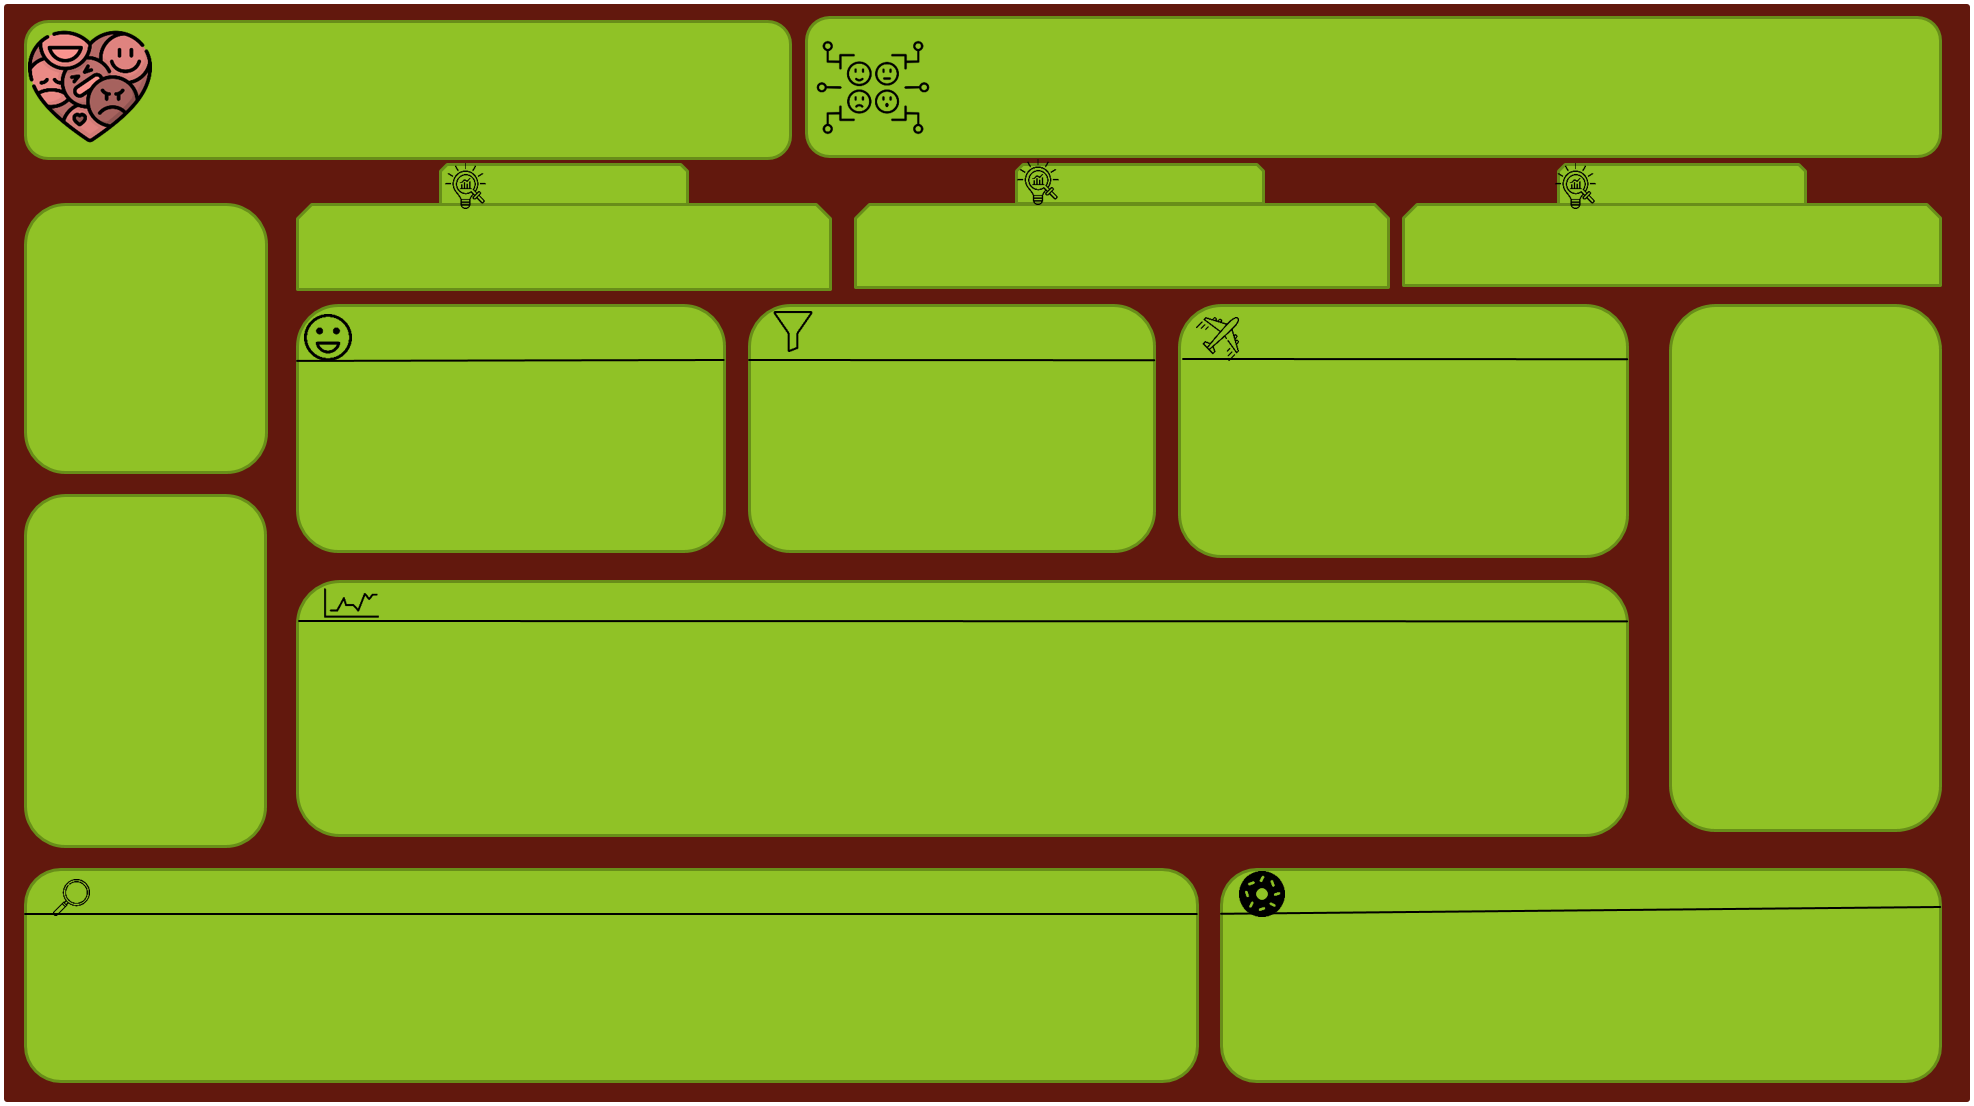

What the dashboard file says about the page in this screenshot:
{"tool":"powerbi","page":{"name":"Page 1","canvas":[1280,720],"ordinal":0},"visuals":[{"type":"clusteredBarChart","title":"Sentiment Distribution","fields":{"Category":["processed_twitter_sentiment.airline_sentiment"],"Y":["CountNonNull(processed_twitter_sentiment.tweet_id)"],"Series":["processed_twitter_sentiment.airline_sentiment"]},"box":[176,160,272,224],"z":0},{"type":"columnChart","title":"Sentiment Distribution by Airline","fields":{"Category":["processed_twitter_sentiment.airline"],"Series":["processed_twitter_sentiment.airline_sentiment"],"Y":["CountNonNull(processed_twitter_sentiment.tweet_id)"]},"box":[464,160,272,224],"z":1000},{"type":"lineChart","title":"Average Sentiment Over Time","fields":{"Category":["processed_twitter_sentiment.tweet_datetime.Variation.Date Hierarchy.Day"],"Y":["Avg(processed_twitter_sentiment.sentiment_score)"]},"box":[16,576,768,128],"z":2000},{"type":"slicer","title":"Airline","fields":{"Values":["processed_twitter_sentiment.airline"]},"box":[16,336,144,224],"z":3000},{"type":"columnChart","title":"Sentiment Flight Correlation","fields":{"Category":["processed_twitter_sentiment.sentiment_flight"],"Series":["processed_twitter_sentiment.airline_sentiment"],"Y":["Avg(processed_twitter_sentiment.sentiment_score)"]},"box":[752,160,288,224],"z":4000},{"type":"donutChart","title":"Overall Sentiment Breakdown","fields":{"Y":["CountNonNull(processed_twitter_sentiment.tweet_id)"],"Category":["processed_twitter_sentiment.airline_sentiment"]},"box":[800,576,448,128],"z":5000},{"type":"lineClusteredColumnComboChart","title":"Tweet Volume and Sentiment Score Over Time","fields":{"Category":["processed_twitter_sentiment.tweet_datetime.Variation.Date Hierarchy.Day"],"Series":["processed_twitter_sentiment.airline_sentiment"],"Y":["CountNonNull(processed_twitter_sentiment.tweet_id)"],"Y2":["Avg(processed_twitter_sentiment.sentiment_score)"]},"box":[176,400,864,160],"z":6000},{"type":"slicer","title":"Tweet Date","fields":{"Values":["processed_twitter_sentiment.tweet_datetime","processed_twitter_sentiment.tweet_datetime.Variation.Date Hierarchy.Day"]},"box":[1056,160,192,400],"z":7000},{"type":"slicer","title":"Airline Sentiment","fields":{"Values":["processed_twitter_sentiment.airline_sentiment"]},"box":[16,160,144,160],"z":8000},{"type":"textbox","box":[16,16,640,64],"z":9000},{"type":"textbox","title":"Key Insights","box":[672,0,576,144],"z":10000},{"type":"image","box":[16,16,48,48],"z":11000},{"type":"image","box":[816,0,96,48],"z":12000},{"type":"textbox","box":[48,80,592,64],"z":13000}]}

Visuals, with their boxes in screenshot pixels (x1, y1, x2, y2), scaled from the page's 1280x720 canvas onto the 1974x1106 screenshot:
"Sentiment Distribution" clusteredBarChart: l=271, t=246, r=691, b=590
"Sentiment Distribution by Airline" columnChart: l=716, t=246, r=1135, b=590
"Average Sentiment Over Time" lineChart: l=25, t=885, r=1209, b=1081
"Airline" slicer: l=25, t=516, r=247, b=860
"Sentiment Flight Correlation" columnChart: l=1160, t=246, r=1604, b=590
"Overall Sentiment Breakdown" donutChart: l=1234, t=885, r=1925, b=1081
"Tweet Volume and Sentiment Score Over Time" lineClusteredColumnComboChart: l=271, t=614, r=1604, b=860
"Tweet Date" slicer: l=1629, t=246, r=1925, b=860
"Airline Sentiment" slicer: l=25, t=246, r=247, b=492
textbox: l=25, t=25, r=1012, b=123
"Key Insights" textbox: l=1036, t=0, r=1925, b=221
image: l=25, t=25, r=99, b=98
image: l=1258, t=0, r=1406, b=74
textbox: l=74, t=123, r=987, b=221
